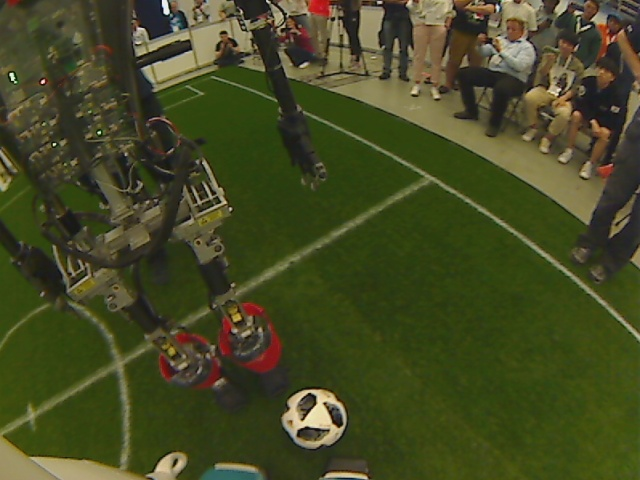ball: (280, 386, 347, 451)
